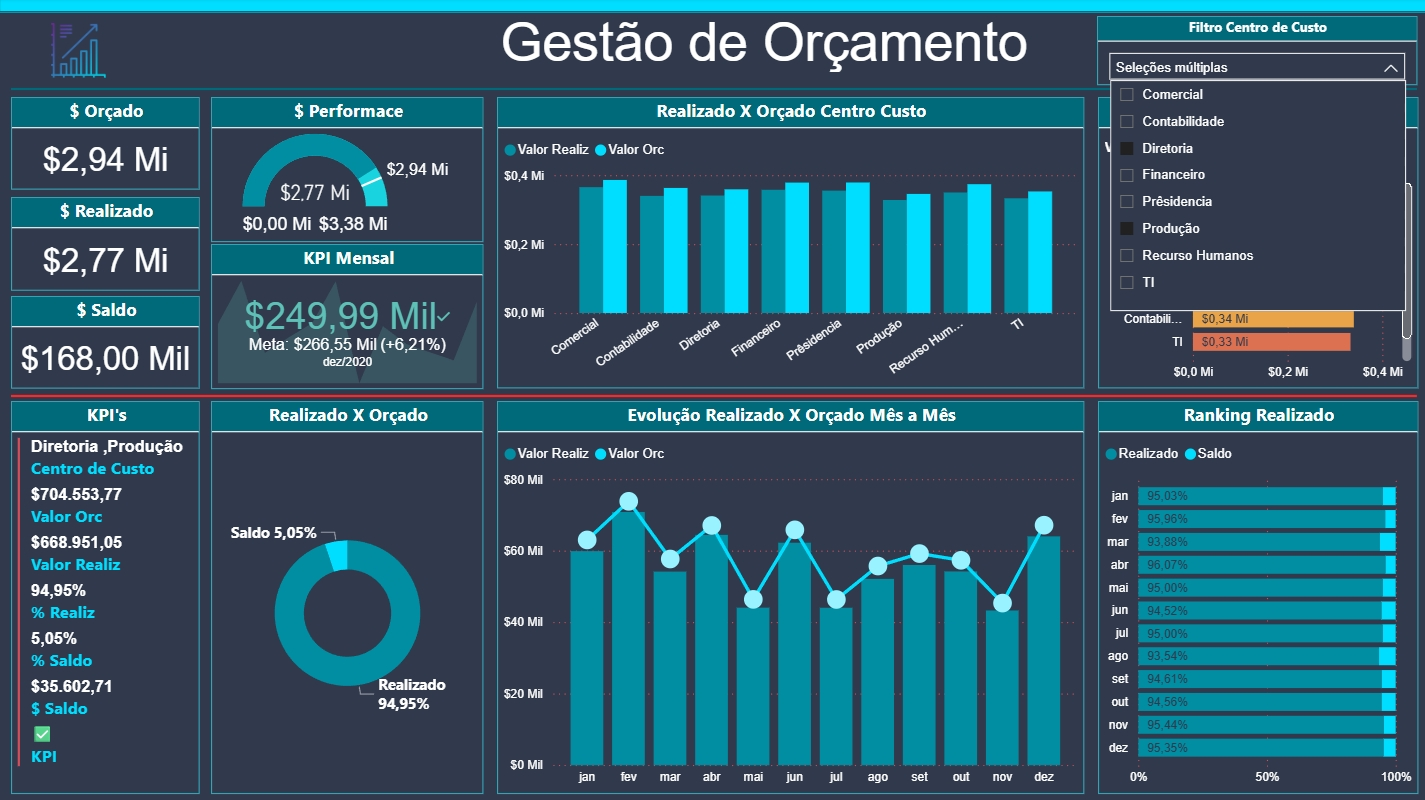

The page's visual inventory and layout, read from the dashboard file:
{"tool":"powerbi","page":{"name":"Painel","canvas":[1280,720],"ordinal":1},"visuals":[{"type":"image","box":[46.6,22.4,49.3,49.3],"z":0},{"type":"shape","box":[10.7,75.2,1259.1,12.5],"z":1000},{"type":"textbox","box":[90.5,6.8,1189.5,68.1],"z":2000},{"type":"shape","box":[0,0,1280,12.6],"z":3000},{"type":"card","title":"$ Orçado","fields":{"Values":["_Medidas.Valor Orc"]},"box":[10.7,88.7,169.3,83.3],"z":4000},{"type":"card","title":"$ Realizado","fields":{"Values":["_Medidas.Valor Realiz"]},"box":[10.7,178.2,169.3,84.2],"z":5000},{"type":"card","title":"$ Saldo","fields":{"Values":["_Medidas.$ Saldo"]},"box":[10.7,266.9,169.3,83.3],"z":6000},{"type":"gauge","title":"$ Performace","fields":{"Y":["_Medidas.Valor Realiz"],"TargetValue":["_Medidas.Valor Orc"],"MaxValue":["_Medidas.Valor Max"]},"box":[189.9,88.7,244.5,129.9],"z":7000},{"type":"kpi","title":"KPI Mensal","fields":{"Indicator":["_Medidas.Valor Realiz"],"Goal":["_Medidas.Valor Orc"],"TrendLine":["D_CALENDARIO.Mês/Ano"]},"box":[189.9,220.3,244.5,129.9],"z":8000},{"type":"clusteredColumnChart","title":"Realizado X Orçado Centro Custo","fields":{"Y":["_Medidas.Valor Realiz","_Medidas.Valor Orc"],"Category":["D_Centro_Custo.Centro de Custos","D_CALENDARIO.Mês/Ano"]},"box":[446,88.7,525.7,261.5],"z":9000},{"type":"barChart","title":"Ranking Realizado","fields":{"Category":["D_Centro_Custo.Centro de Custos"],"Y":["_Medidas.Valor Realiz"]},"box":[984.2,88.7,286.6,261.5],"z":10000},{"type":"multiRowCard","title":"KPI''s","fields":{"Values":["_Medidas.Centro de Custo","_Medidas.Valor Orc","_Medidas.Valor Realiz","_Medidas.% Realiz","_Medidas.% Saldo","_Medidas.$ Saldo","_Medidas.KPI"]},"box":[10.7,360.9,169.3,351.9],"z":11000},{"type":"donutChart","title":"Realizado X Orçado","fields":{"Y":["_Medidas.% Realiz","_Medidas.% Saldo"]},"box":[189.9,360.9,244.5,351.9],"z":12000},{"type":"lineClusteredColumnComboChart","title":"Evolução Realizado X Orçado Mês a Mês","fields":{"Y":["_Medidas.Valor Realiz"],"Y2":["_Medidas.Valor Orc"],"Category":["D_CALENDARIO.Mês Abrv"]},"box":[446,360.9,525.7,351.9],"z":13000},{"type":"barChart","title":"Ranking Realizado","fields":{"Category":["D_CALENDARIO.Mês Abrv"],"Y":["_Medidas.% Realiz","_Medidas.% Saldo"]},"box":[984.2,360.9,286.6,351.9],"z":14000},{"type":"shape","box":[10.7,350.1,1259.1,12.5],"z":15000},{"type":"slicer","title":"Filtro Centro de Custo","fields":{"Values":["D_Centro_Custo.Centro de Custos"]},"box":[983.3,16.1,286.6,61.8],"z":16000}]}

Visuals, with their boxes in screenshot pixels (x1, y1, x2, y2), scaled from the page's 1280x720 canvas onto the 1425x800 screenshot:
image: detection(52, 25, 107, 80)
shape: detection(12, 84, 1414, 97)
textbox: detection(101, 8, 1424, 83)
shape: detection(0, 0, 1424, 14)
"$ Orçado" card: detection(12, 99, 200, 191)
"$ Realizado" card: detection(12, 198, 200, 292)
"$ Saldo" card: detection(12, 297, 200, 389)
"$ Performace" gauge: detection(211, 99, 484, 243)
"KPI Mensal" kpi: detection(211, 245, 484, 389)
"Realizado X Orçado Centro Custo" clusteredColumnChart: detection(497, 99, 1082, 389)
"Ranking Realizado" barChart: detection(1096, 99, 1415, 389)
"KPI''s" multiRowCard: detection(12, 401, 200, 792)
"Realizado X Orçado" donutChart: detection(211, 401, 484, 792)
"Evolução Realizado X Orçado Mês a Mês" lineClusteredColumnComboChart: detection(497, 401, 1082, 792)
"Ranking Realizado" barChart: detection(1096, 401, 1415, 792)
shape: detection(12, 389, 1414, 403)
"Filtro Centro de Custo" slicer: detection(1095, 18, 1414, 87)
